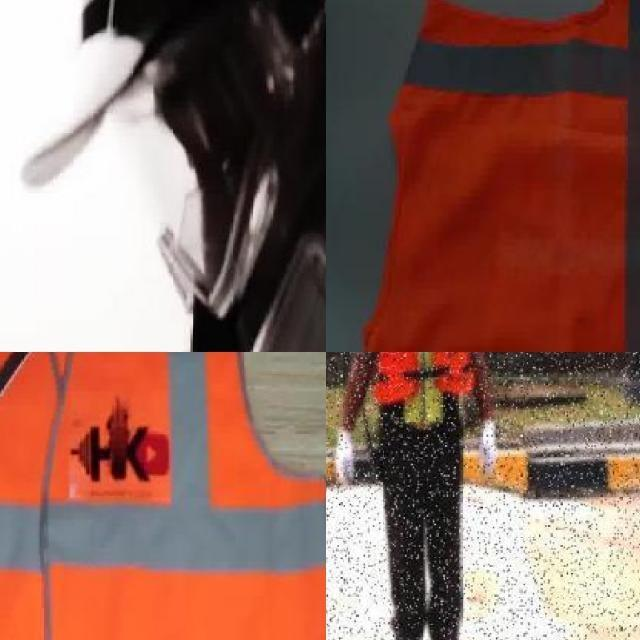apron: (476, 416, 499, 482), (334, 428, 358, 490)
